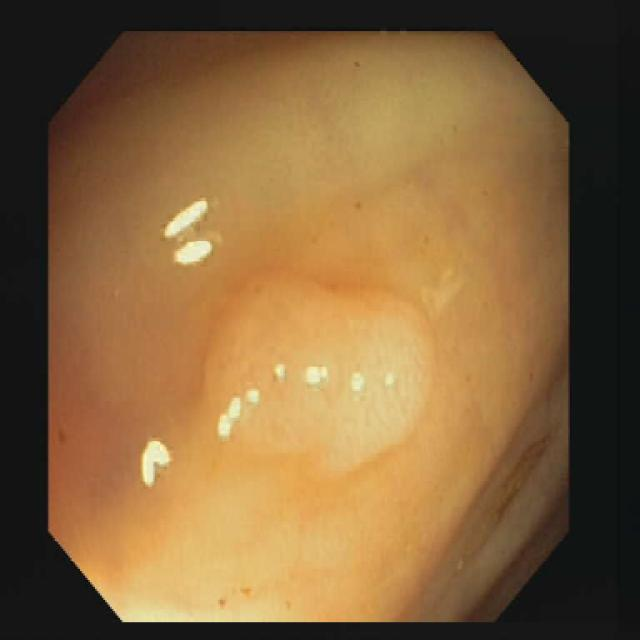tumor: (205, 273, 447, 471)
